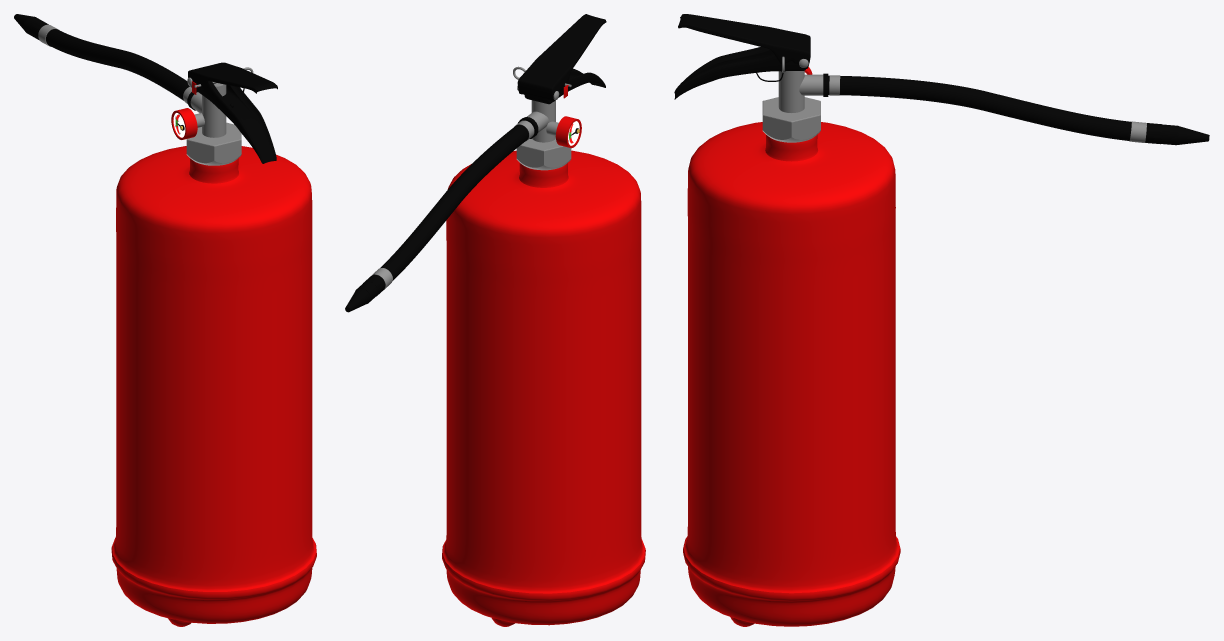
The model's file is BlendFireglb.glb.
3 views of the same model, side by side, from view 1: azimuth 30°, elevation 25°; view 2: azimuth 150°, elevation 25°; view 3: azimuth 270°, elevation 25° (orthographic). The views are drawn at different scales.
Visible parts, largest first — view 1: base, Sweep, handle_bottom, Цилиндр_2_2, handle_top, steel_pipe, frame; view 2: base, Sweep, handle_top, Цилиндр_2_2, steel_pipe, handle_bottom, frame; view 3: base, Sweep, handle_top, handle_bottom, Цилиндр_2_2, steel_pipe.
Part boxes in pixels (box(x1,y1,x2,y2)): base: box(111, 146, 316, 623); Sweep: box(46, 29, 189, 100); handle_bottom: box(196, 81, 276, 163); Цилиндр_2_2: box(186, 122, 241, 163); handle_top: box(188, 62, 277, 93); steel_pipe: box(190, 83, 226, 137); frame: box(171, 108, 197, 139); base: box(442, 150, 645, 625); Sweep: box(380, 120, 534, 280); handle_top: box(517, 14, 606, 101); Цилиндр_2_2: box(516, 138, 571, 167); steel_pipe: box(527, 100, 558, 142); handle_bottom: box(524, 68, 605, 104); frame: box(555, 116, 581, 148); base: box(683, 122, 900, 626); Sweep: box(828, 75, 1131, 140); handle_top: box(678, 14, 810, 68); handle_bottom: box(674, 47, 805, 99); Цилиндр_2_2: box(762, 97, 820, 139); steel_pipe: box(778, 71, 823, 112).
Size of the model in its own units: 0.1347 by 0.3945 by 0.3309.
5 materials, 1 textured.
